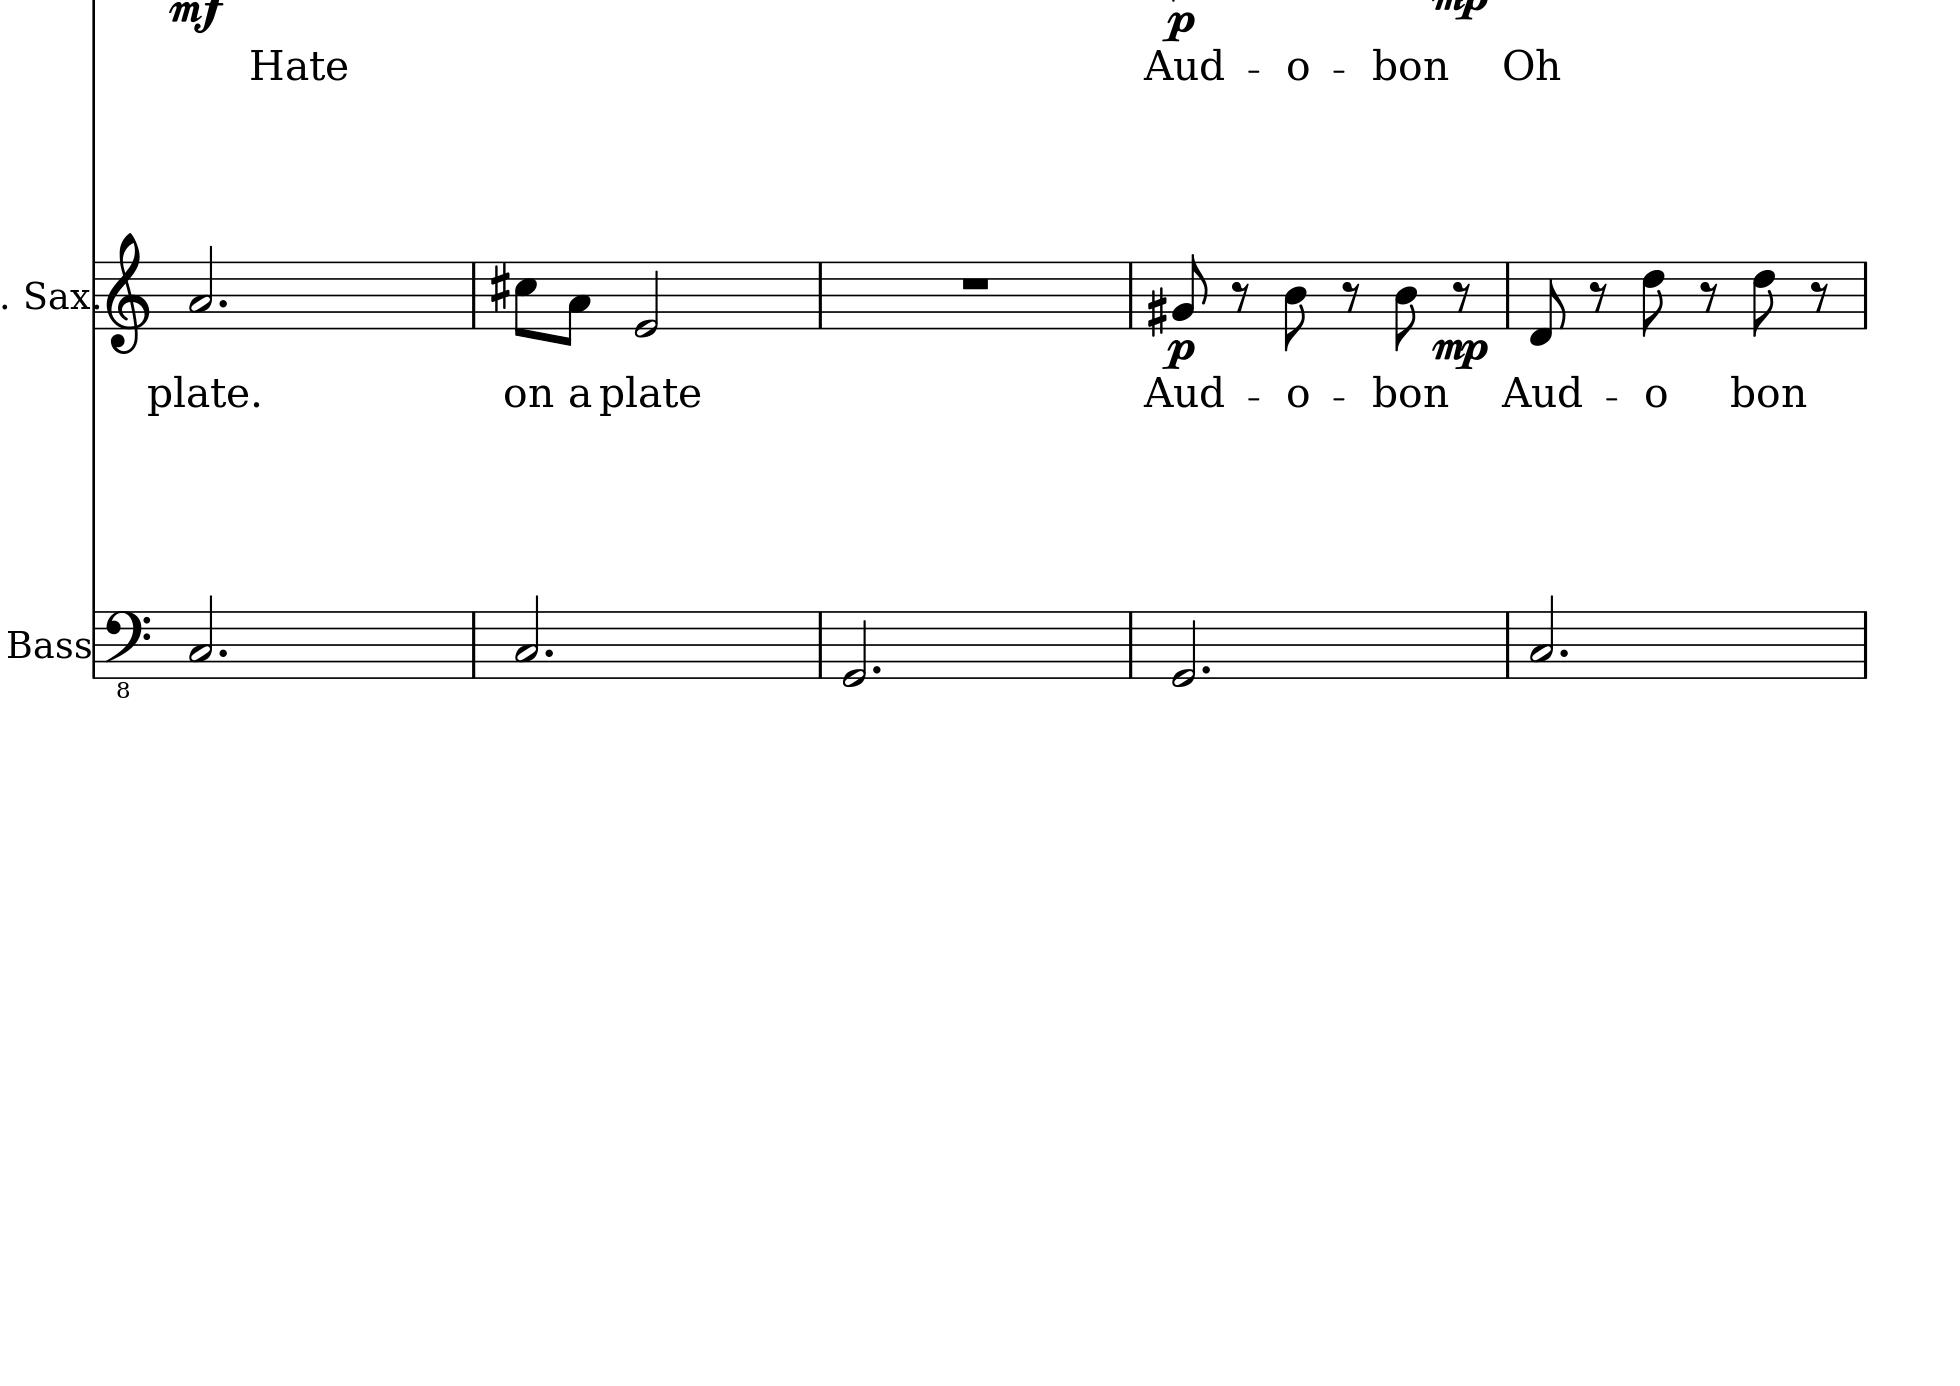2_0: (1170, 609, 1198, 688), (841, 607, 868, 688), (634, 259, 660, 339)
2_3: (189, 241, 214, 331), (514, 592, 540, 679), (1530, 592, 1555, 679), (187, 594, 213, 679)
8_-1: (1530, 259, 1566, 346)
8_2: (1173, 253, 1209, 330)
8_3: (556, 259, 592, 346)
8_4: (1392, 259, 1419, 352), (1282, 259, 1308, 352)
8_5: (511, 258, 538, 340)
8_6: (1752, 259, 1779, 337), (1641, 259, 1666, 337)
Bass: (4, 625, 91, 660)
Gclef: (105, 231, 151, 355)
Lower_Fclef: (100, 607, 151, 700)
Rests1: (958, 274, 993, 292)
Rests8: (1587, 279, 1611, 313), (1809, 279, 1833, 313), (1698, 279, 1720, 313), (1230, 279, 1251, 313), (1341, 279, 1362, 313), (1452, 279, 1473, 313)
Sax: (22, 277, 90, 313)
Sharp: (487, 259, 511, 313), (1144, 283, 1168, 337)
Single_barline: (1498, 261, 1518, 328), (1855, 610, 1875, 678), (1857, 261, 1875, 328), (811, 610, 829, 678), (1122, 610, 1140, 678), (1122, 262, 1140, 328), (465, 262, 481, 328), (811, 262, 828, 328), (465, 610, 481, 676), (1500, 610, 1516, 676), (88, 262, 103, 330), (88, 610, 102, 678)
dot: (868, 661, 882, 676), (216, 295, 229, 309), (1200, 661, 1212, 676), (541, 646, 555, 658), (1557, 646, 1570, 658), (216, 646, 228, 658)
mf: (169, 1, 223, 34)
mp: (1431, 336, 1489, 370)
p: (1164, 9, 1197, 43), (1162, 337, 1194, 370)
